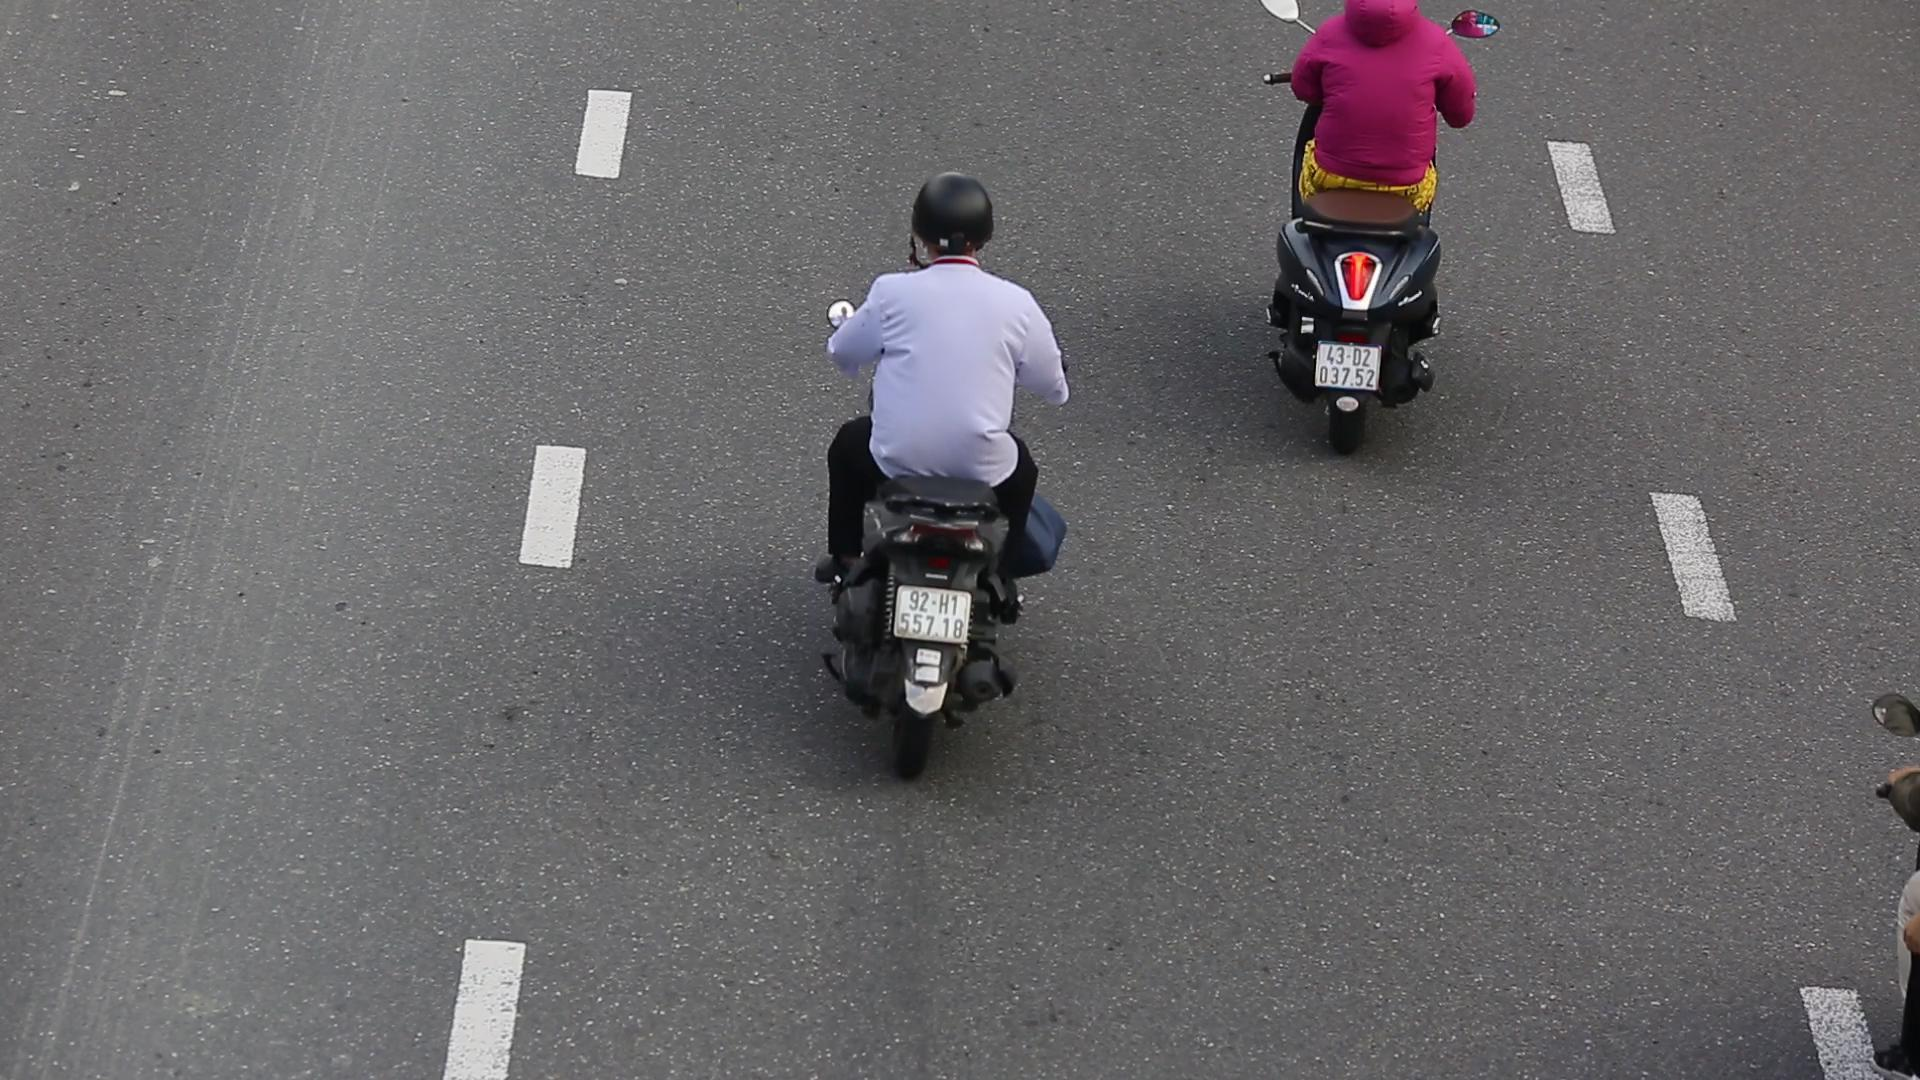motobike: (810, 166, 1087, 787)
